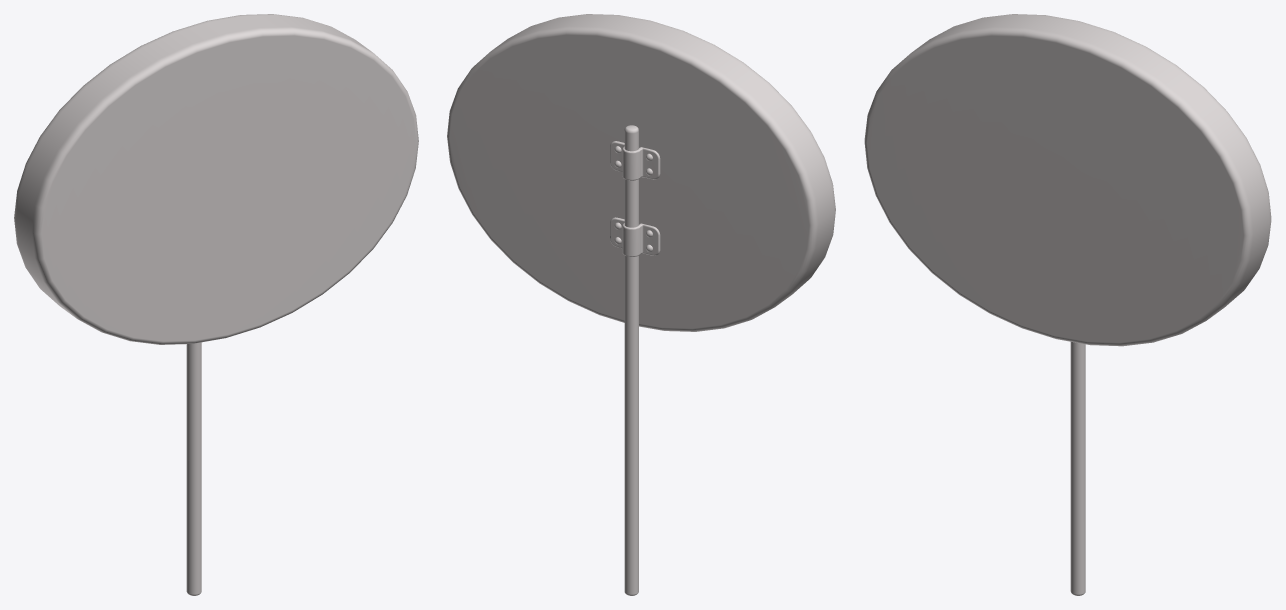
Rendered from Circle Sign.glb.
The picture shows the model from 3 angles, left to right: view 1: azimuth 30°, elevation 25°; view 2: azimuth 150°, elevation 25°; view 3: azimuth 330°, elevation 25°; orthographic projection. The views are drawn at different scales.
Parts seen in each view (by area): view 1: circle.1; view 2: circle.1; view 3: circle.1.
Part boxes in pixels (x1,y1,x2,y2): circle.1: [14, 14, 418, 595]; circle.1: [447, 14, 835, 595]; circle.1: [864, 14, 1271, 595].
Size of the model in its own units: 0.7732 by 1.11 by 0.1166.
Materials: 1 (1 with a texture image).
